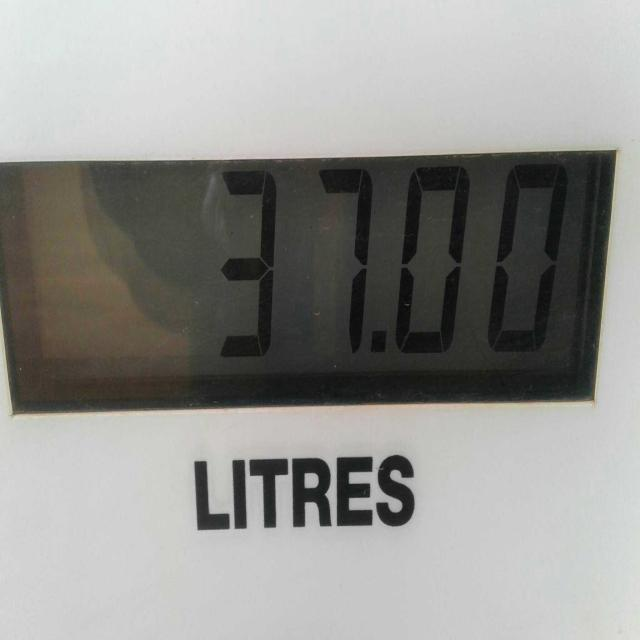.: (375, 331, 388, 353)
0: (487, 164, 564, 366), (398, 170, 474, 365)
3: (219, 174, 277, 358)
7: (315, 164, 374, 360)
